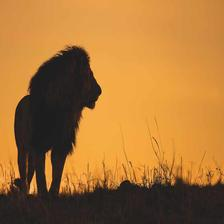Lion: (14, 42, 98, 185)
